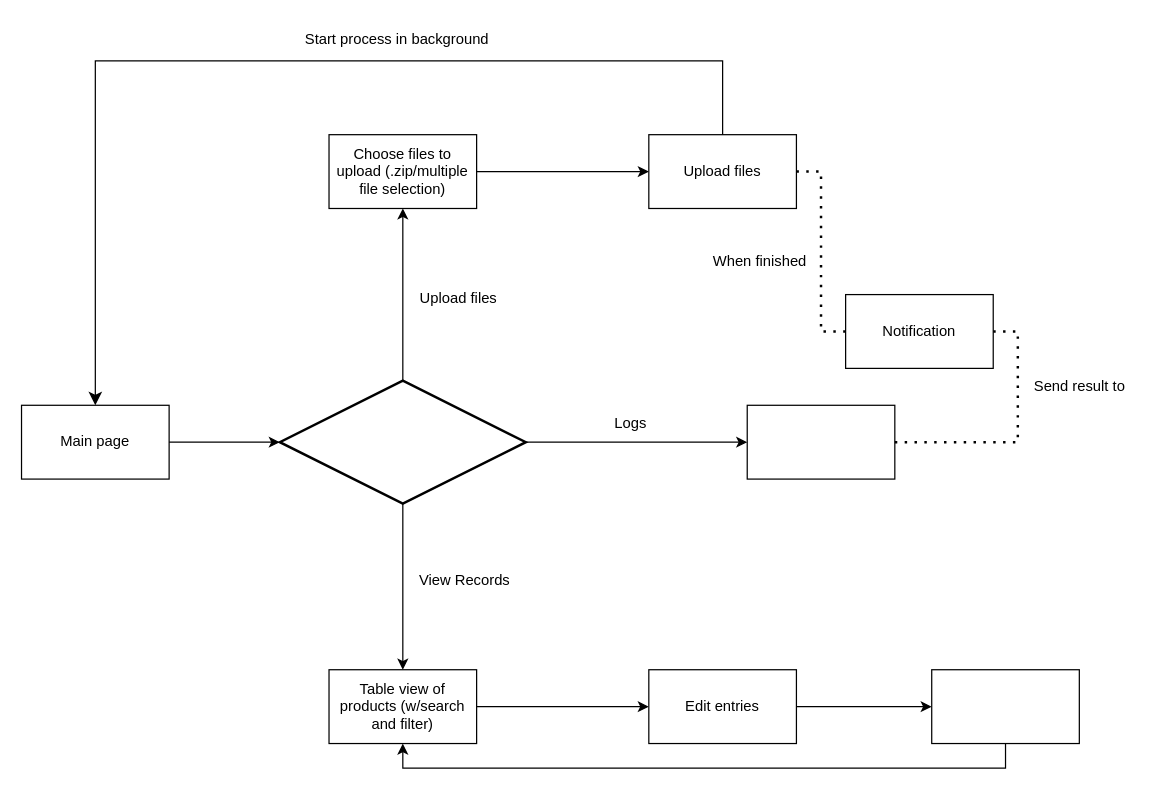
Some shapes in this 1162 by 800 pixel diagram are drawn without their labels. Here are the shapes that lost their labels. From the top down, the centre of each, then its label:
At point (402, 441): "Which option?".
At point (820, 441): "Processing logs (start, finish, error)".
At point (1004, 706): "Confirmation".
